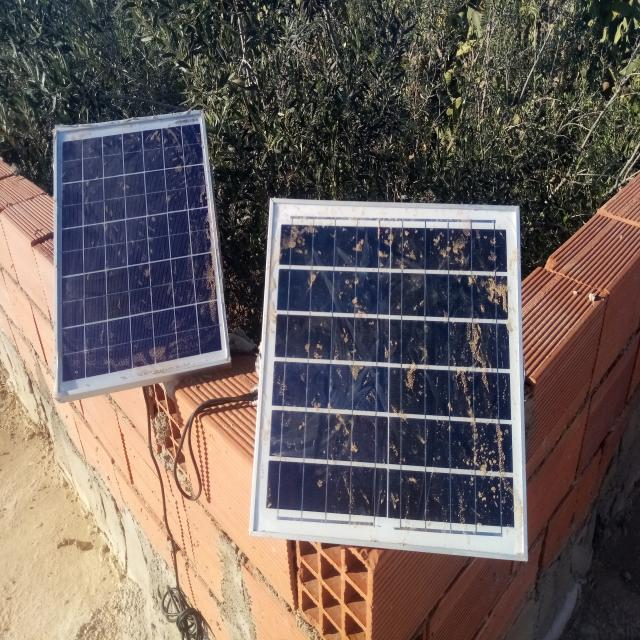faulty: (250, 199, 530, 561), (54, 111, 231, 399)
